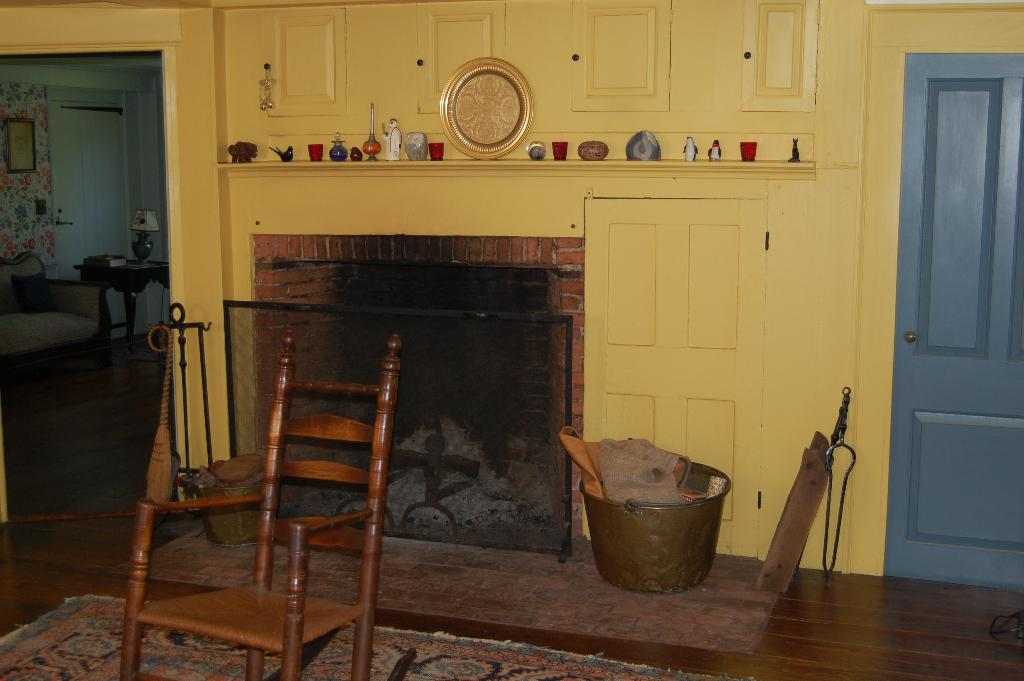Chair: (93, 256, 398, 681)
